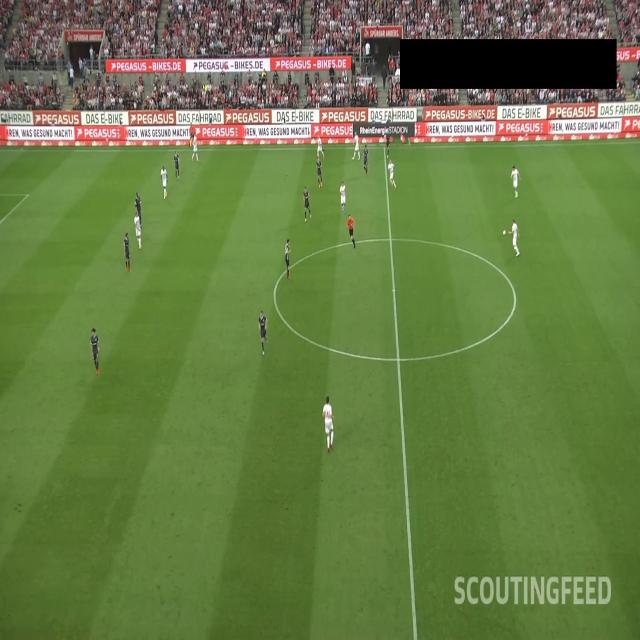ball: (502, 230, 506, 237)
